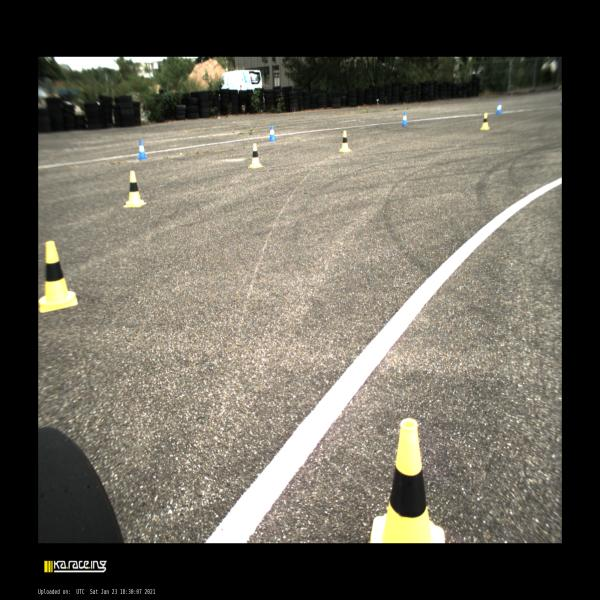blue_cone: (137, 140, 147, 160), (268, 125, 276, 141), (402, 112, 408, 125), (496, 102, 501, 114)
yellow_cone: (371, 418, 444, 544), (38, 240, 77, 312), (124, 170, 146, 208), (248, 143, 263, 169), (338, 130, 352, 152), (481, 112, 489, 130)
